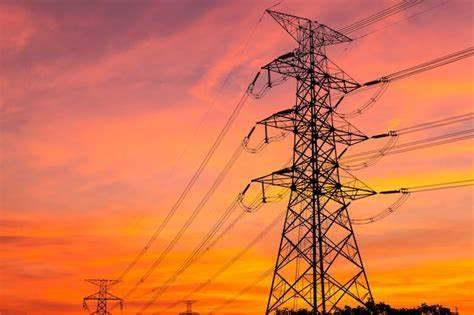power_tower: (251, 0, 391, 315)
